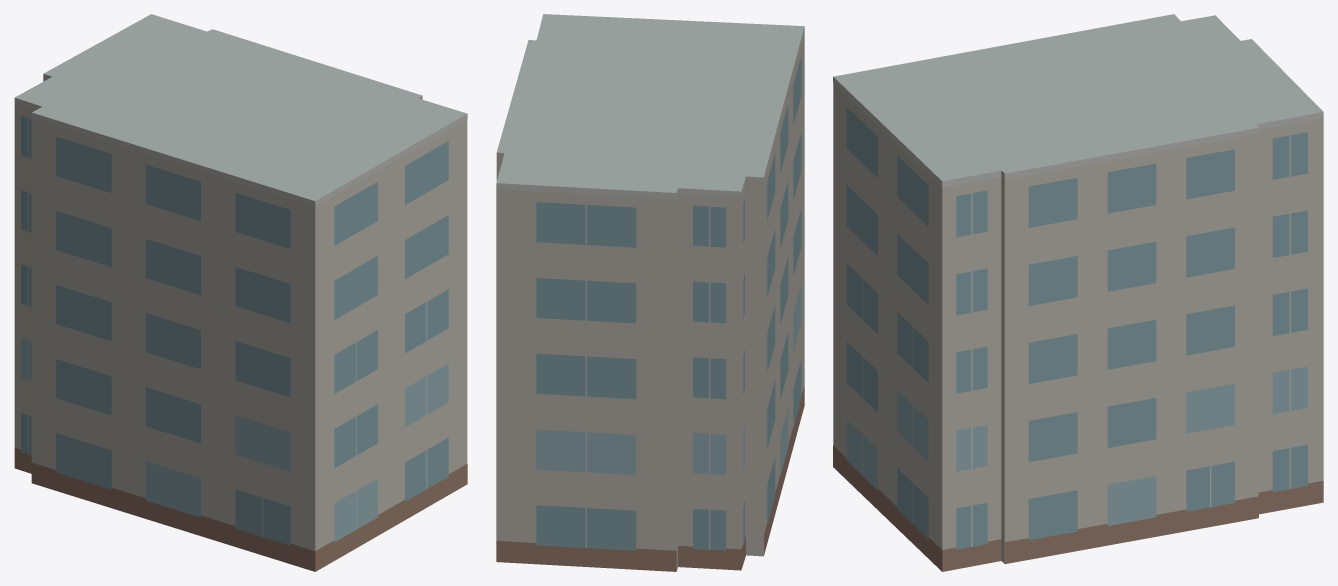
The model's file is survey-upis-32849183.glb.
3 views of the same model, side by side, from view 1: azimuth 30°, elevation 25°; view 2: azimuth 150°, elevation 25°; view 3: azimuth 270°, elevation 25° (orthographic). The views are drawn at different scales.
Visible parts, largest first — view 1: survey-upis-32849183.tmp; view 2: survey-upis-32849183.tmp; view 3: survey-upis-32849183.tmp.
Boxes of the visible parts, bbox=[...] form: survey-upis-32849183.tmp: bbox=[14, 14, 467, 571]; survey-upis-32849183.tmp: bbox=[496, 14, 804, 571]; survey-upis-32849183.tmp: bbox=[833, 14, 1323, 571].
Bounding box in the file's own units: 14.17 × 15.4 × 17.54.
